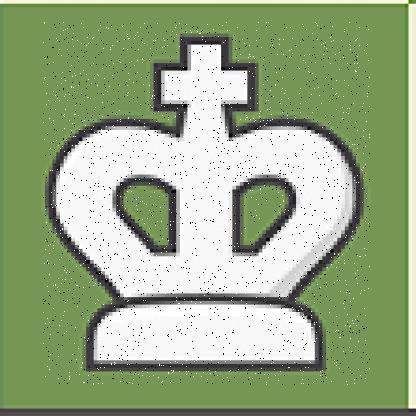White King: (43, 22, 371, 386)
